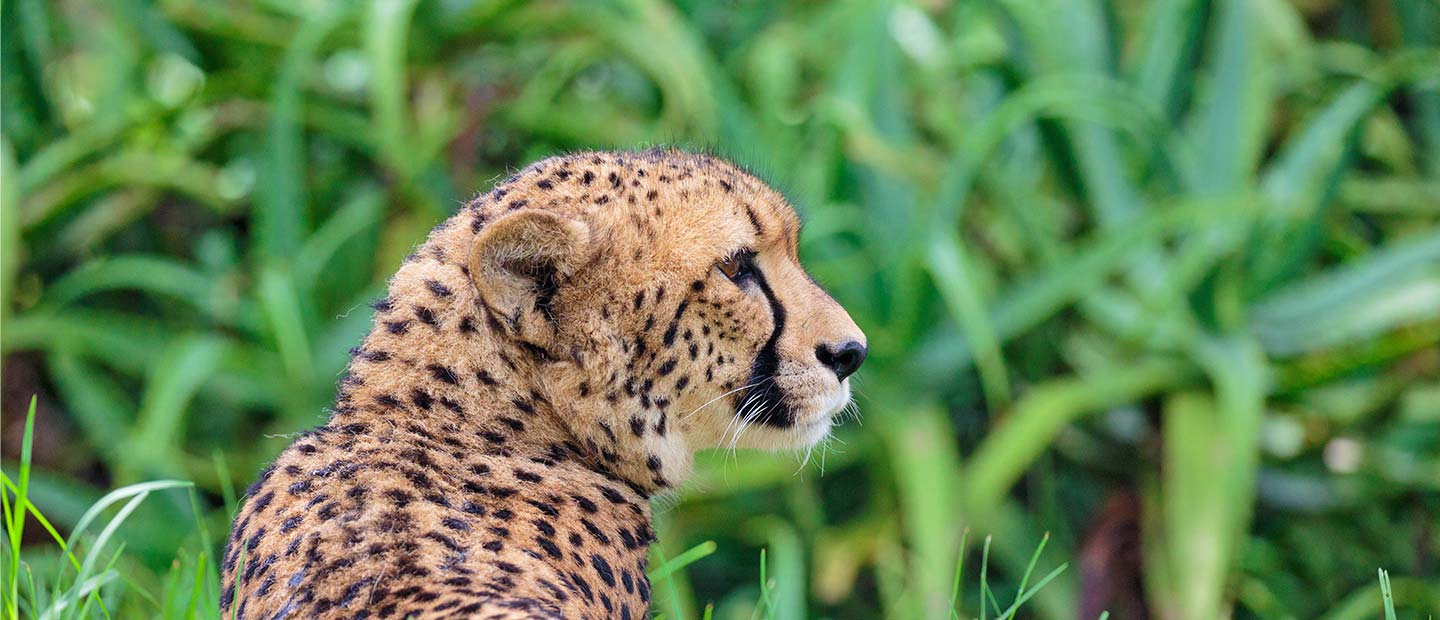cheetah: (466, 114, 891, 524)
